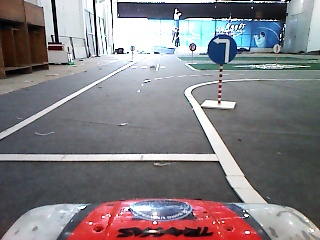turn: (206, 33, 239, 67)
